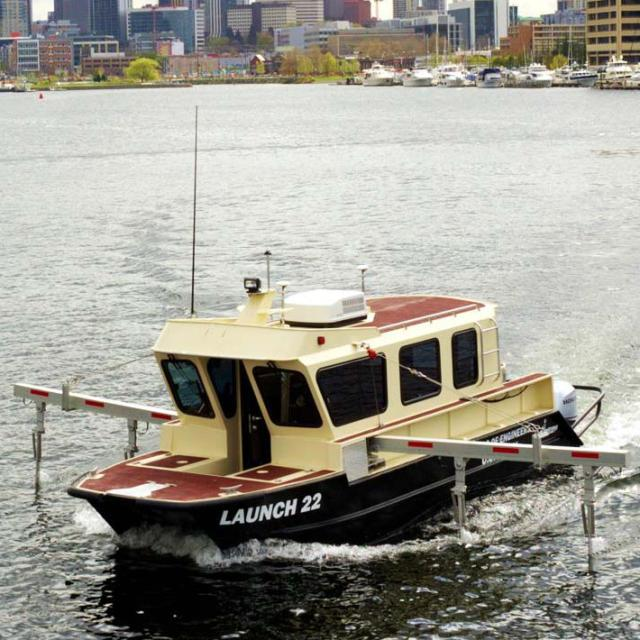houseboat: (83, 266, 585, 540)
